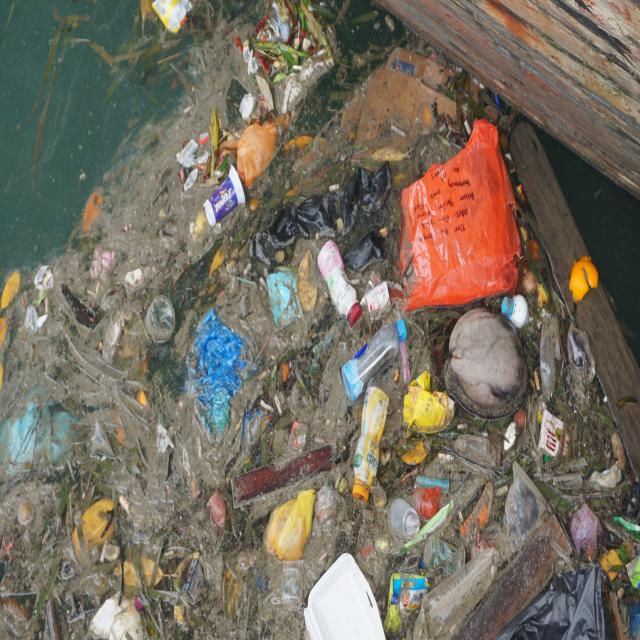Botol Plastik: (346, 384, 391, 511), (342, 318, 408, 402), (315, 237, 364, 328), (144, 294, 178, 349), (501, 291, 536, 334)
Bungkus Makanan: (305, 552, 388, 640)
Bungkus Minuman: (204, 166, 251, 225), (424, 534, 468, 575), (388, 498, 422, 543)
Kantong Plastik: (399, 116, 522, 312), (247, 161, 400, 307), (188, 302, 258, 443), (262, 491, 322, 566), (233, 116, 289, 184)
